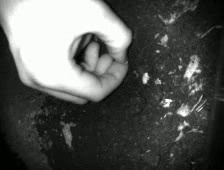corn: (138, 70, 151, 86)
